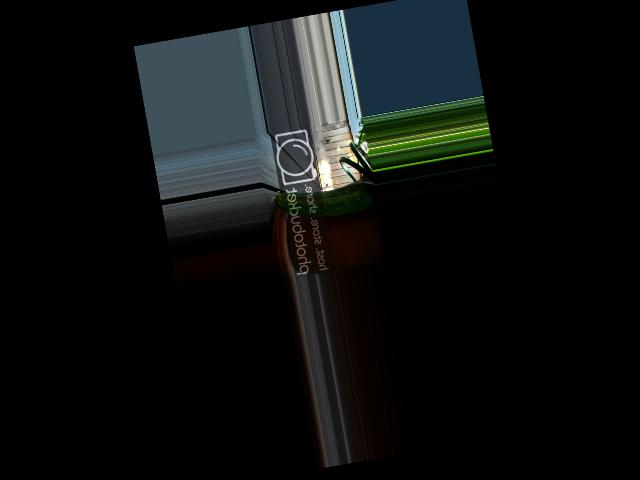cucumber: (268, 176, 378, 226)
